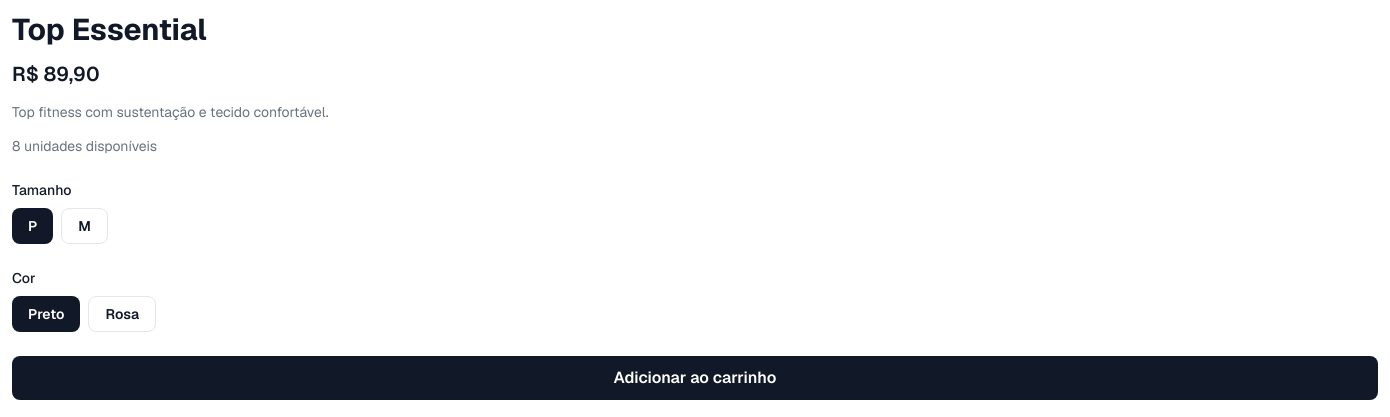
Test case: ProductInfo › deve selecionar uma variante válida ao trocar a cor
Click the button named "Selecionar tamanho M": click(85, 226) [61,208,108,244]
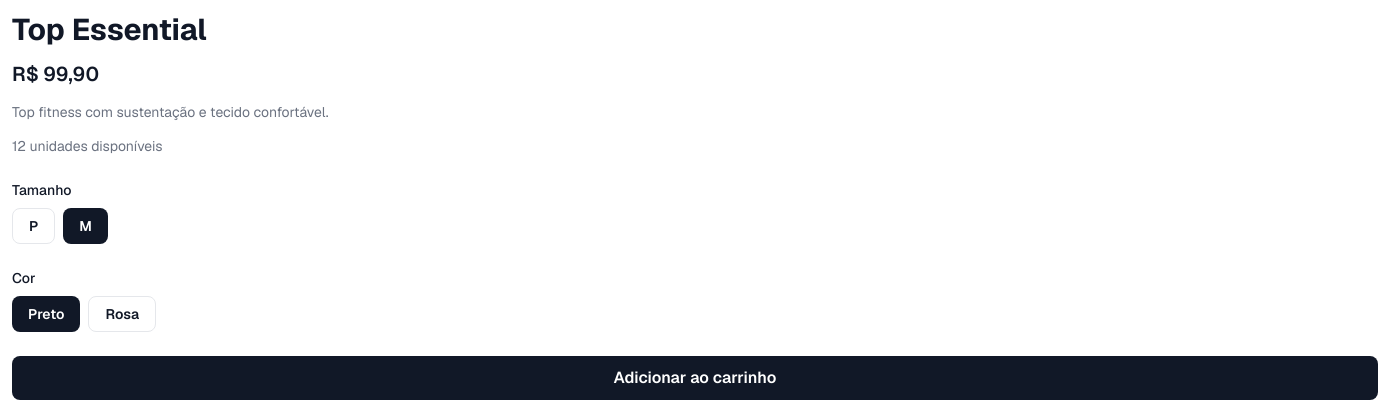
Click the button with aria-label "Selecionar cor Rosa": click(122, 314) [88,296,156,332]
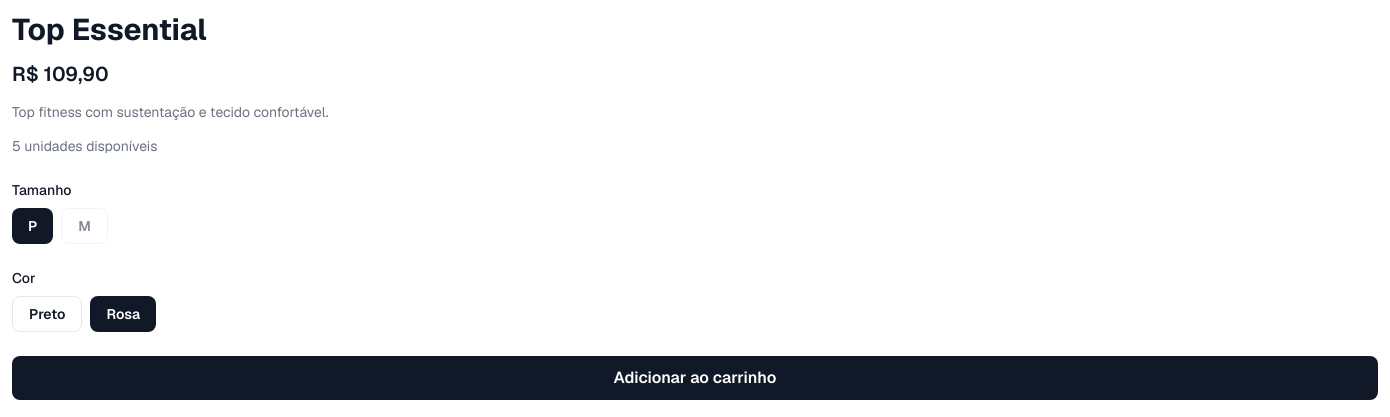
Check: the text "R$ 109,90" is shown, box [12,61,109,87]
